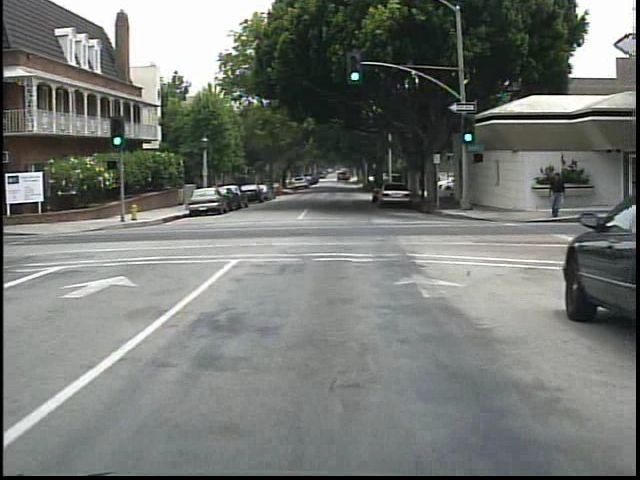person: (539, 169, 567, 222)
